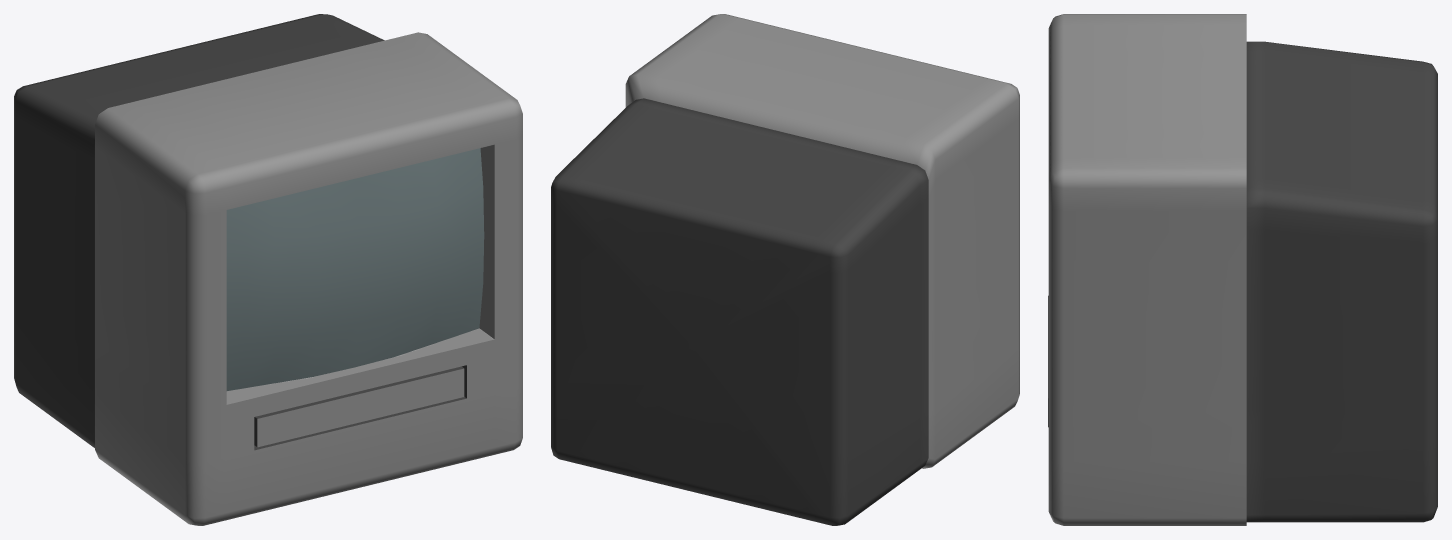
File: Y1BoxTV.fbx
The picture shows the model from 3 angles, left to right: view 1: azimuth 30°, elevation 25°; view 2: azimuth 150°, elevation 25°; view 3: azimuth 270°, elevation 25°; orthographic projection. The views are drawn at different scales.
Parts seen in each view (by area): view 1: buraunnkann; view 2: buraunnkann; view 3: buraunnkann.
Boxes of the visible parts, x1,y1,x2,y2 form: buraunnkann: (14, 14, 522, 525); buraunnkann: (551, 14, 1019, 525); buraunnkann: (1048, 14, 1437, 525).
Size of the model in its own units: 1 by 1 by 0.9886.
Materials: 1 (1 with a texture image).
